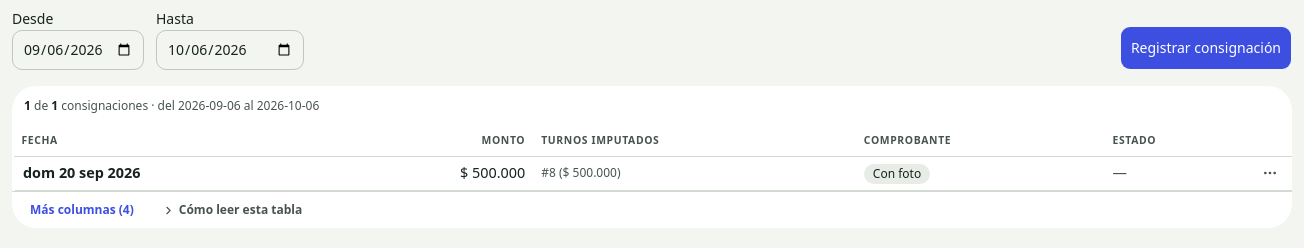
DepositsTab — consignaciones desde el POS › una consignación ya confirmada o cargada desde acá no ofrece «Confirmar», sólo «Reversar»
Click the button named "Acciones de la consignación de $ 500.000" at (1270, 173), box [1256, 159, 1284, 187]
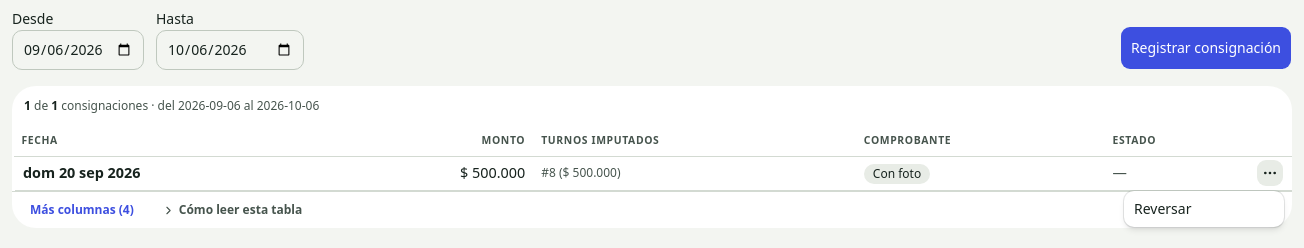
Expected: the menu item "Reversar" is shown, [1134, 199, 1192, 218]
